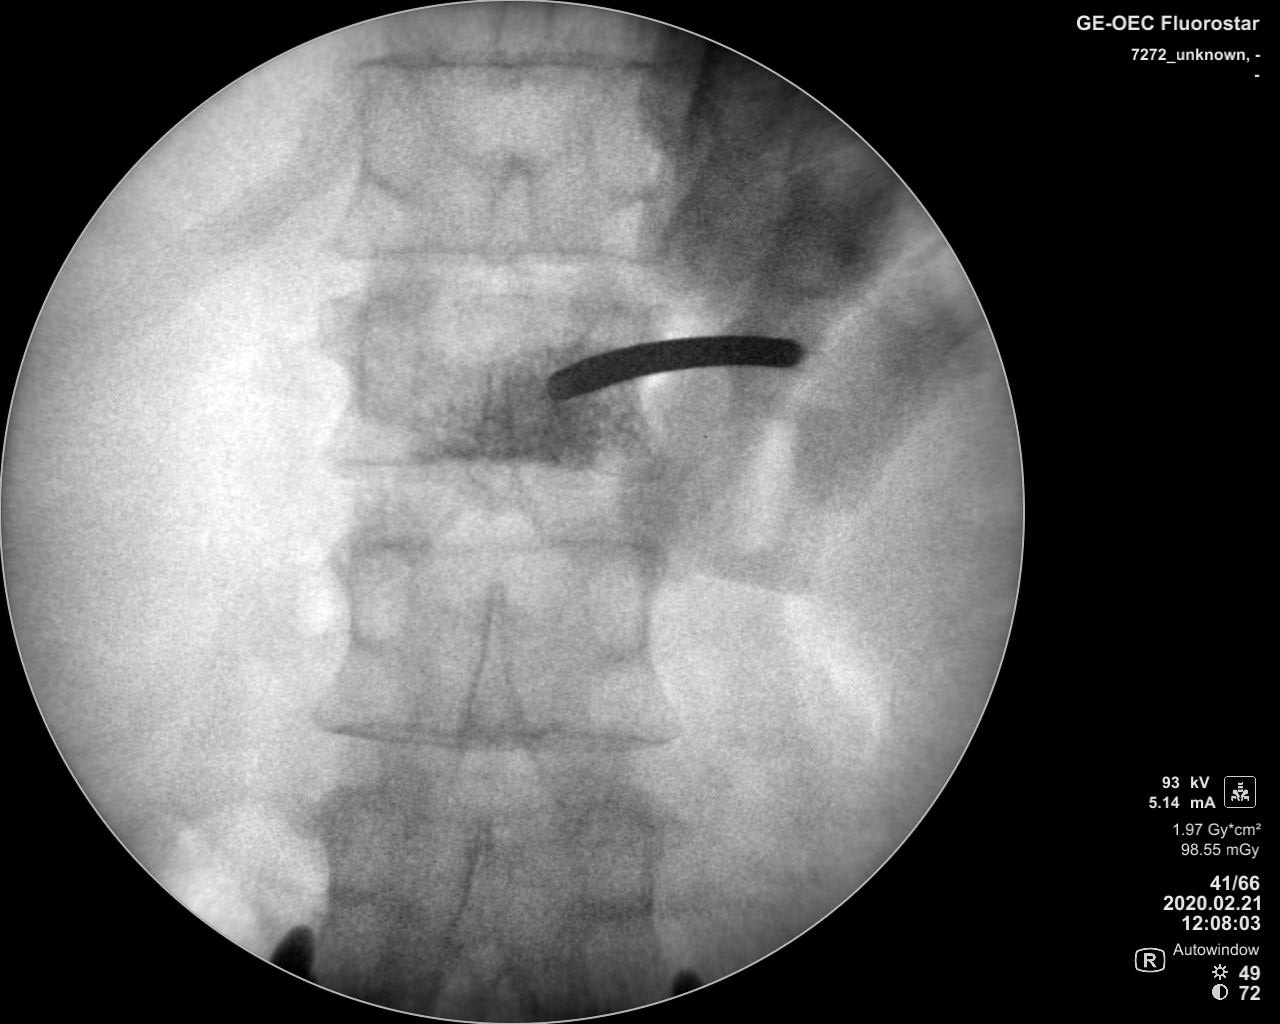eyes: (580, 71, 666, 203), (569, 802, 664, 917), (341, 296, 425, 421), (319, 779, 402, 906), (351, 84, 437, 206), (581, 550, 658, 662), (341, 543, 417, 654)
line: (285, 440, 665, 495), (299, 713, 692, 755), (299, 528, 674, 562), (344, 47, 680, 82), (315, 243, 673, 273)
nose: (451, 571, 529, 763), (435, 811, 510, 982), (462, 347, 519, 497), (474, 145, 536, 278)
